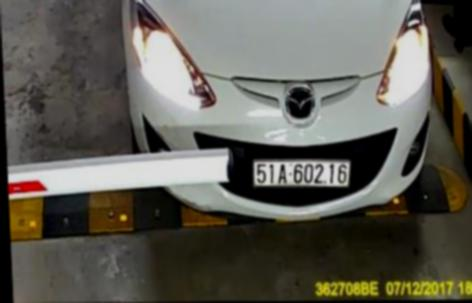License_Plate: (245, 152, 359, 193)
